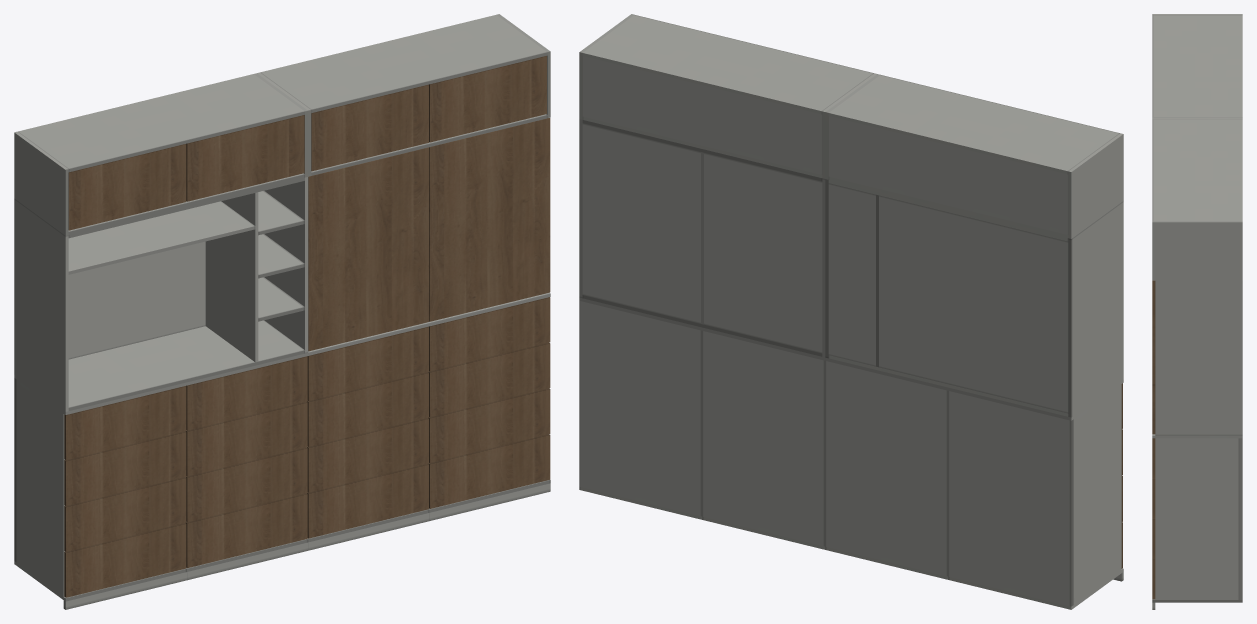
The model's file is meublep.glb.
The picture shows the model from 3 angles, left to right: view 1: azimuth 30°, elevation 25°; view 2: azimuth 150°, elevation 25°; view 3: azimuth 270°, elevation 25°; orthographic projection. The views are drawn at different scales.
Visible parts, largest first — view 1: world; view 2: world; view 3: world.
Boxes of the visible parts, x1,y1,x2,y2 form: world: (14, 14, 550, 609); world: (579, 14, 1123, 609); world: (1152, 14, 1242, 609).
Size of the model in its own units: 3 by 2.6 by 0.55.
Materials: 1 (1 with a texture image).
